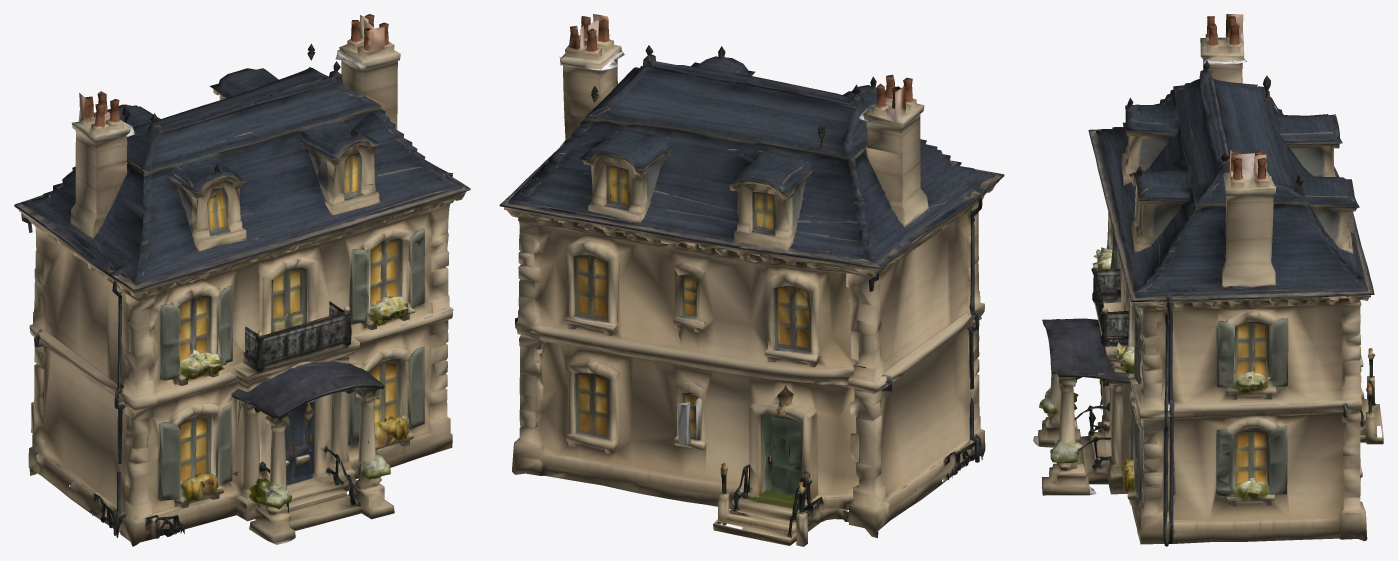
The picture shows the model from 3 angles, left to right: view 1: azimuth 30°, elevation 25°; view 2: azimuth 150°, elevation 25°; view 3: azimuth 270°, elevation 25°; orthographic projection. The views are drawn at different scales.
Visible parts, largest first — view 1: classic__hotel_2__neural_lod; view 2: classic__hotel_2__neural_lod; view 3: classic__hotel_2__neural_lod.
Boxes of the visible parts, x1,y1,x2,y2 form: classic__hotel_2__neural_lod: (14,14,470,546); classic__hotel_2__neural_lod: (499,14,1004,546); classic__hotel_2__neural_lod: (1033,14,1383,546).
Size of the model in its own units: 0.9441 by 0.9992 by 0.8168.
Materials: 1 (1 with a texture image).
